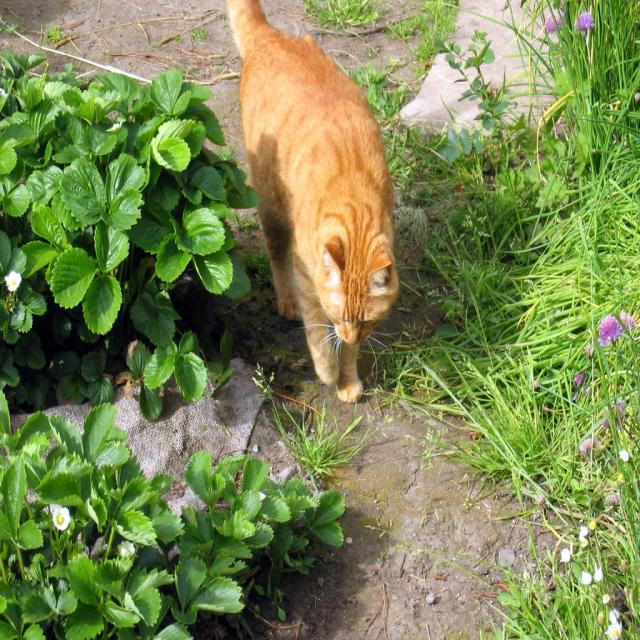Cat: (224, 0, 399, 403)
